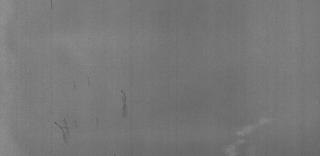water spot: (113, 82, 137, 120), (53, 110, 75, 150)
